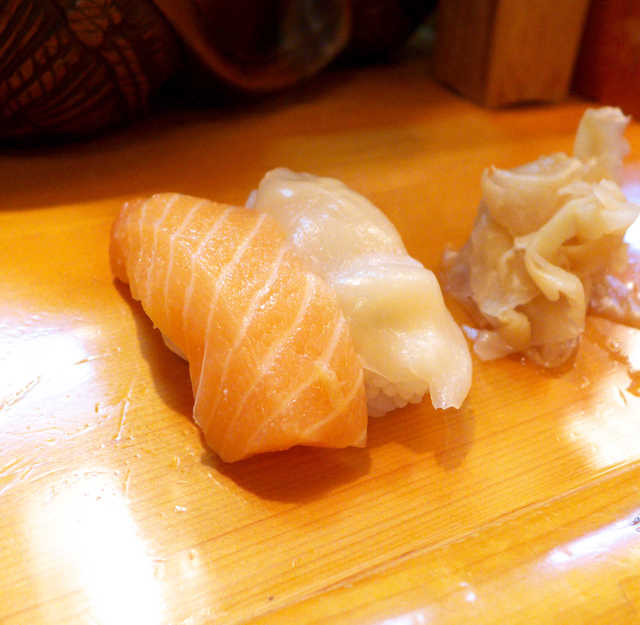salmon: (103, 187, 378, 466)
